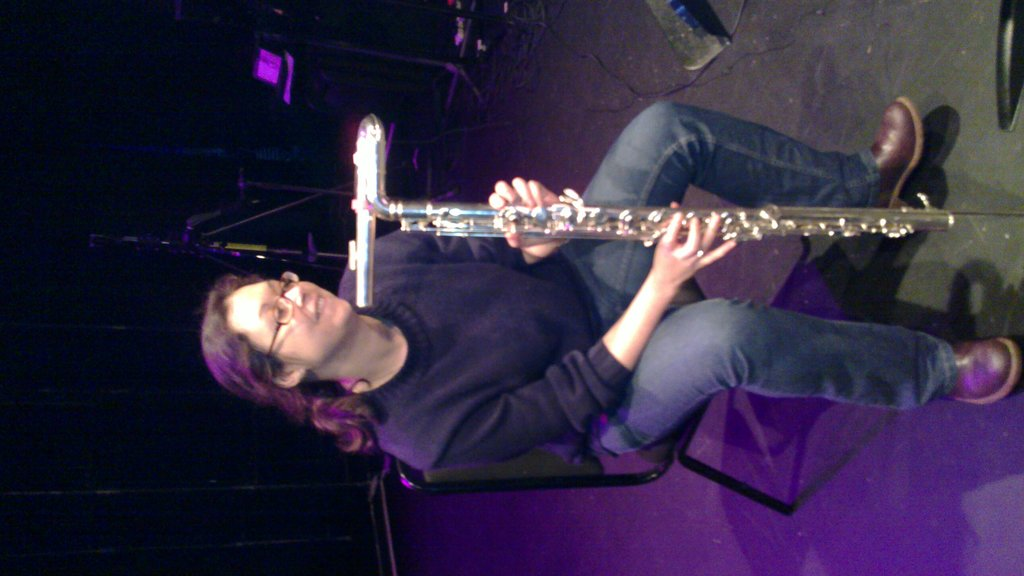Human_hand: (648, 201, 738, 287), (486, 174, 570, 258)
